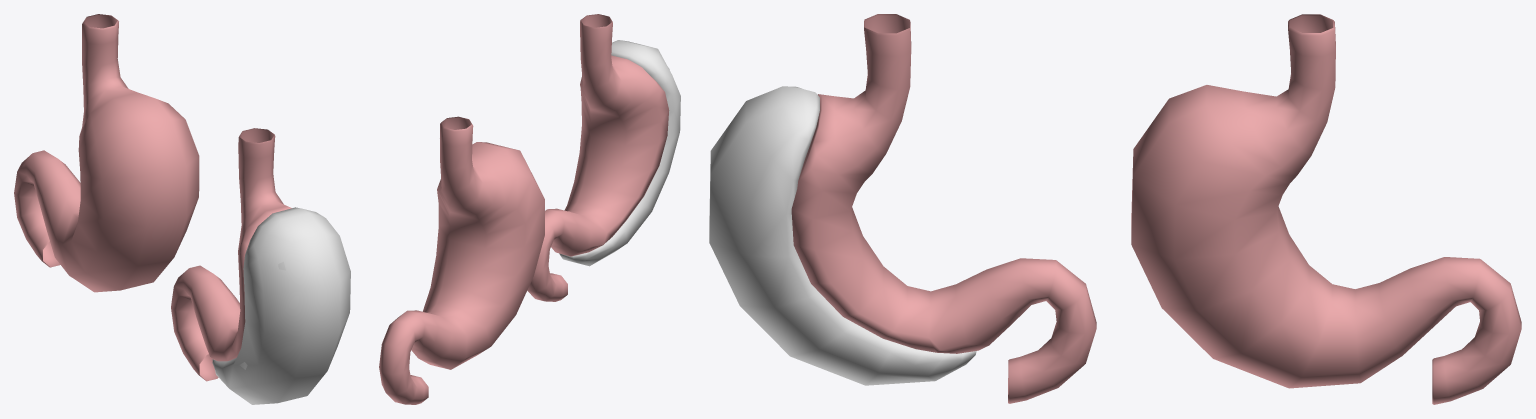
The model's file is SleeveDemo.fbx.
3 renders of one model, left to right at view 1: azimuth 30°, elevation 25°; view 2: azimuth 150°, elevation 25°; view 3: azimuth 270°, elevation 25°, orthographic. The views are drawn at different scales.
Parts seen in each view (by area): view 1: estomac.001, estomac.000, estomac.002; view 2: estomac.001, estomac.002, estomac.000; view 3: estomac.001, estomac.002, estomac.000.
Boxes of the visible parts, x1,y1,x2,y2 form: estomac.001: (14,14,199,292); estomac.000: (212,207,350,404); estomac.002: (171,128,291,381); estomac.001: (379,116,544,404); estomac.002: (527,14,669,301); estomac.000: (559,40,680,266); estomac.001: (1131,14,1521,404); estomac.002: (791,14,1096,403); estomac.000: (709,86,976,385).
Size of the model in its own units: 154 by 412 by 803.
